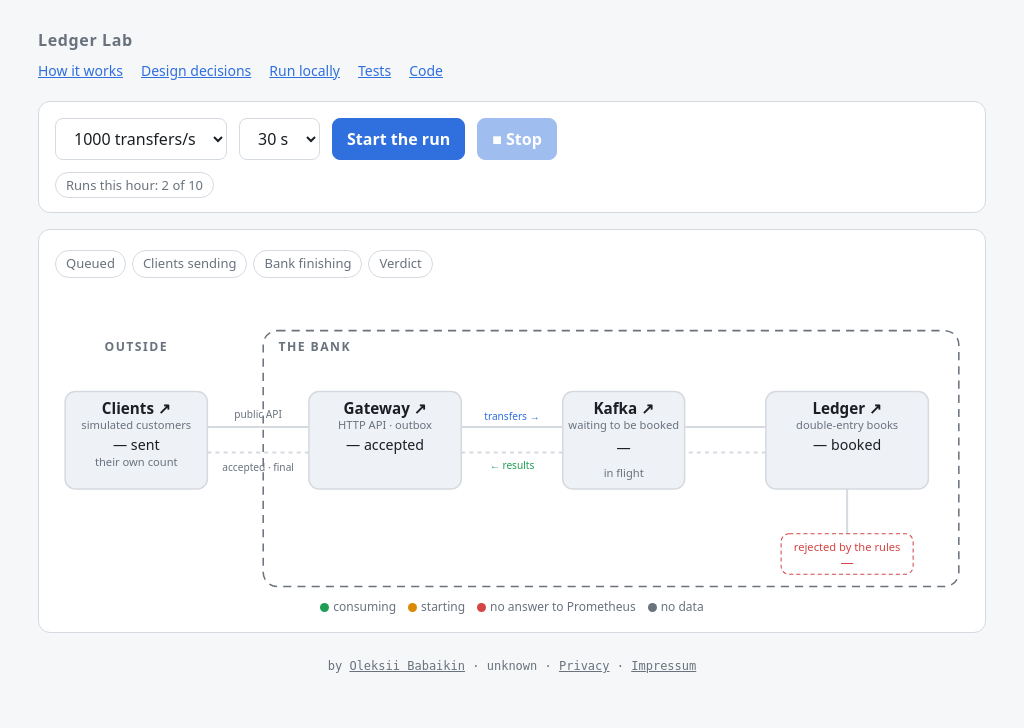
Test: session page › shows a run as soon as Start is pressed, without a reload
Click the button "Start the run" at (399, 139), box [332,118,465,160]
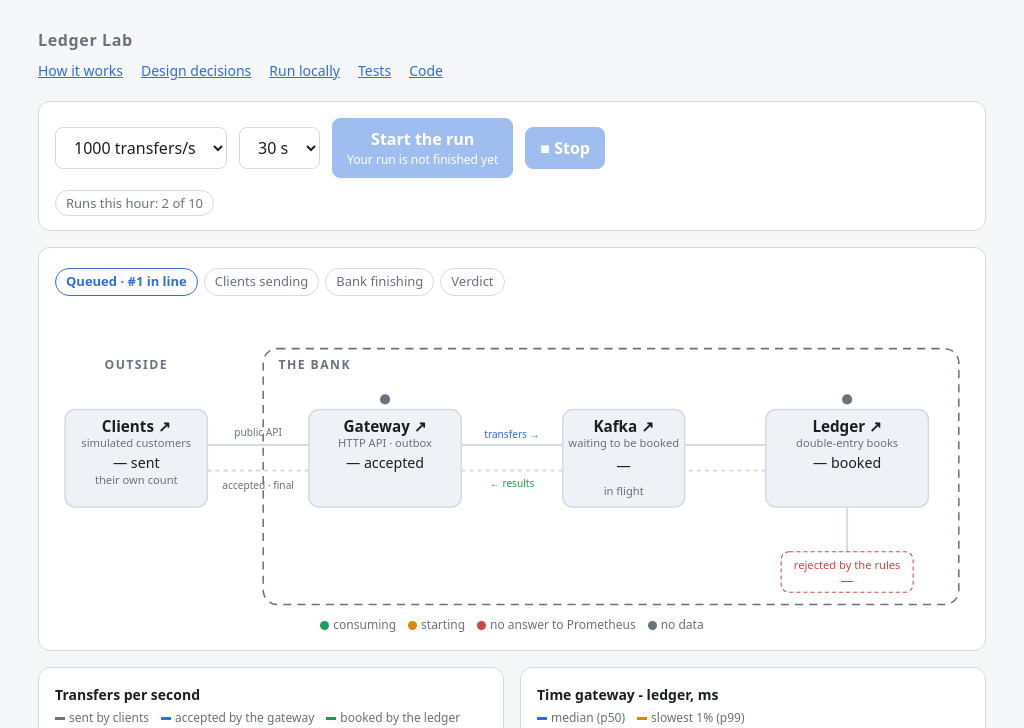
Now the text "Queued · #1 in line" is shown, box [55,268,198,296]
